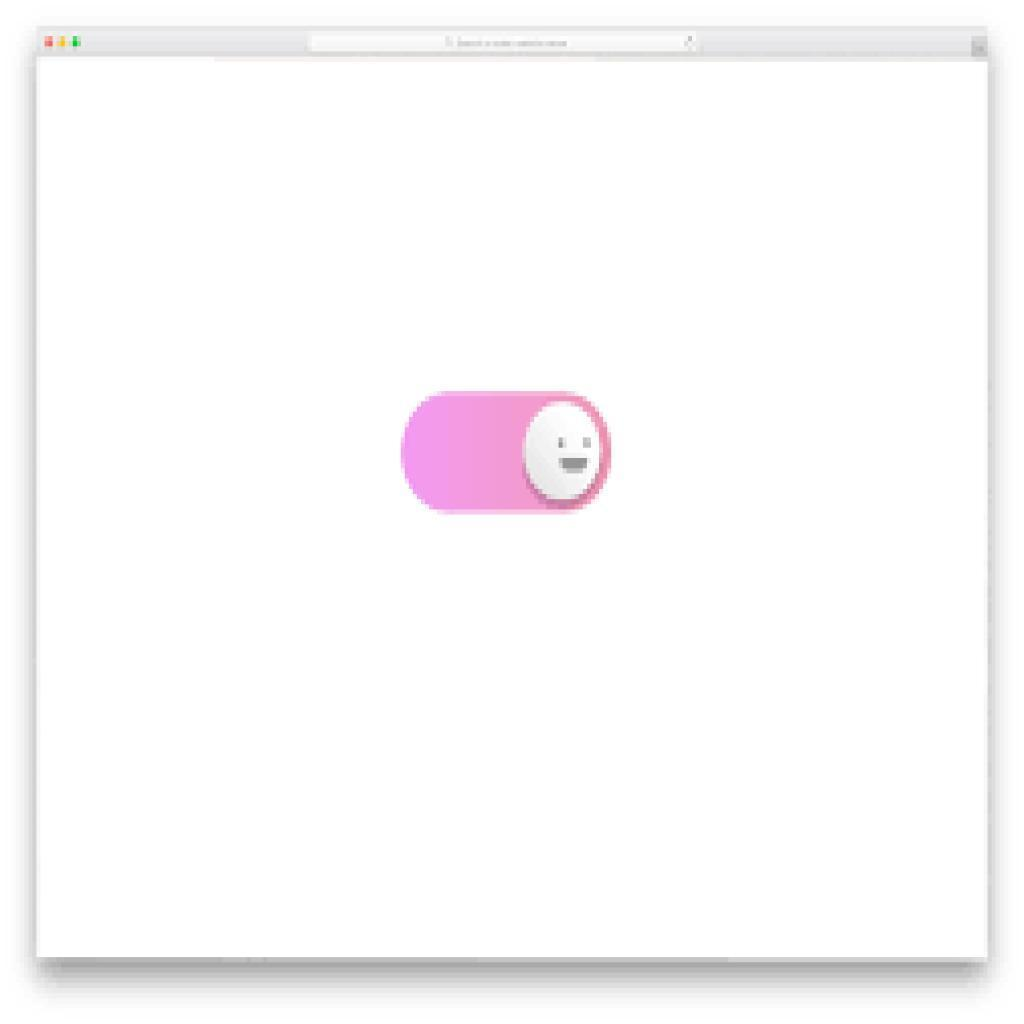switch: (401, 391, 615, 520)
